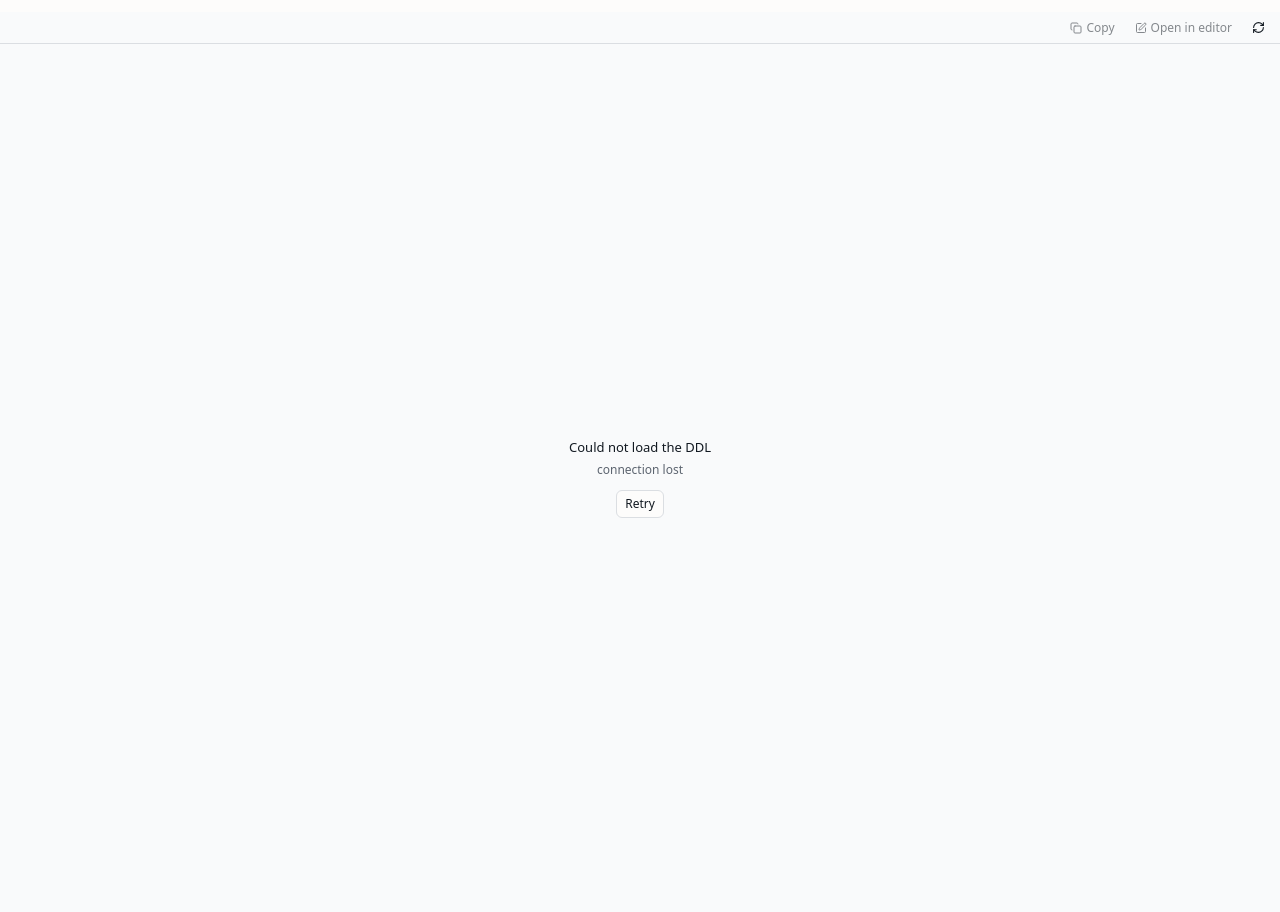
Test: DdlViewer (mock IPC) › shows other errors with a retry that refetches
The width and height of the screenshot is (1280, 912).
expect the text "connection lost" is shown: met, box [597,461,683,478]
What coordinates should you click on to do the following:
click the button "Retry"
I would click on:
 (640, 504)
Its box is [616,490,664,518].
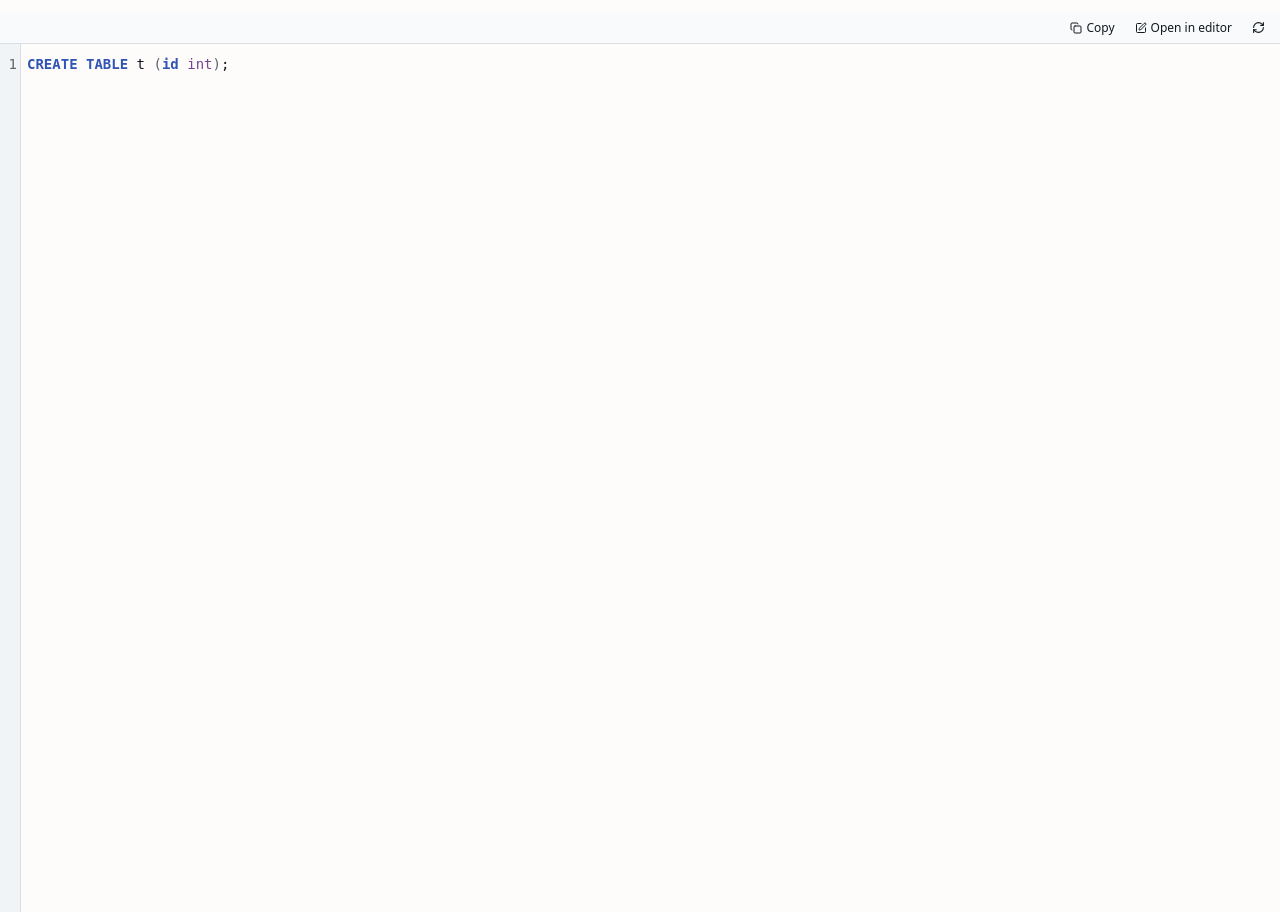
expect the element with test id "code-view" shows "CREATE TABLE t": met
